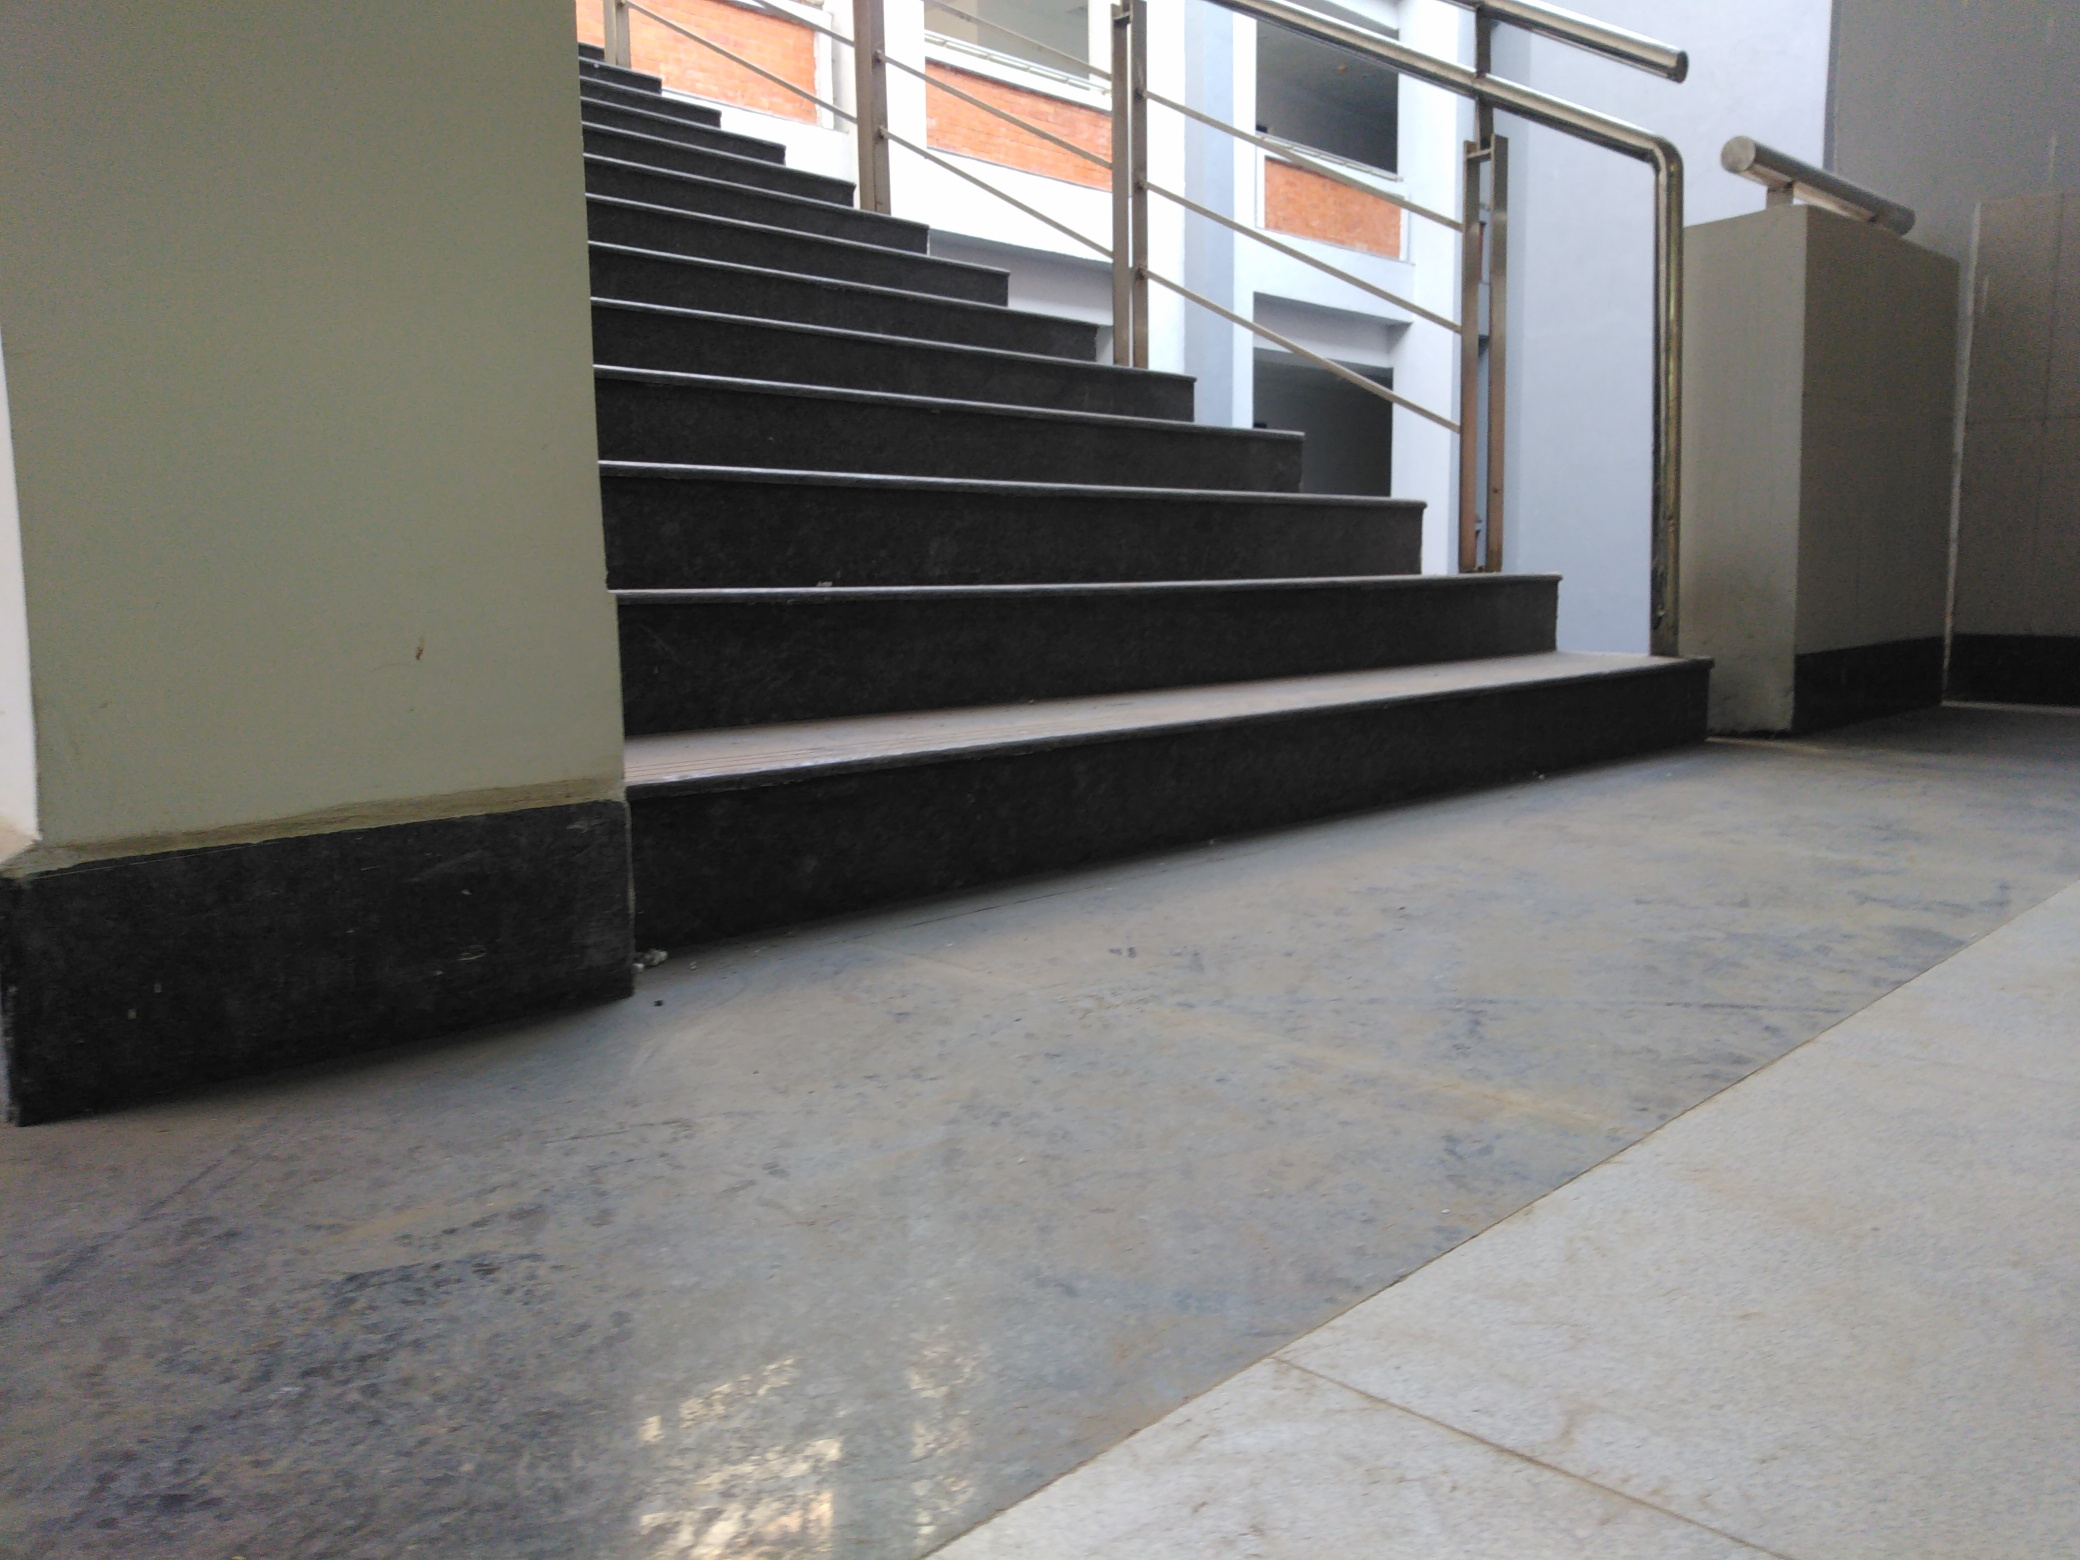stairs_up: (599, 80, 1631, 850)
